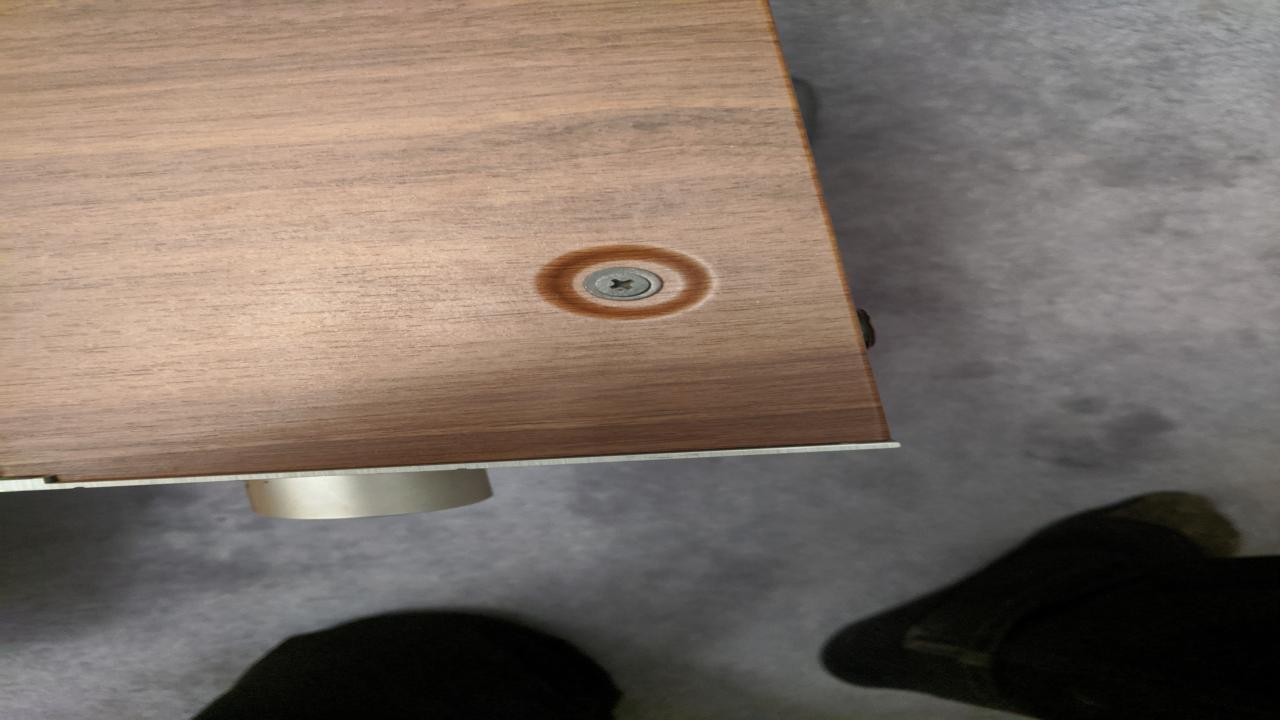CRS: (585, 270, 658, 300)
